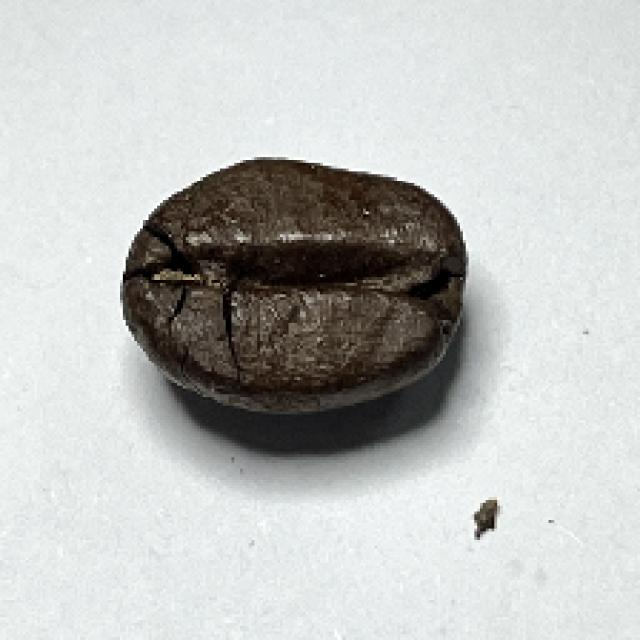bean: (118, 157, 469, 410)
